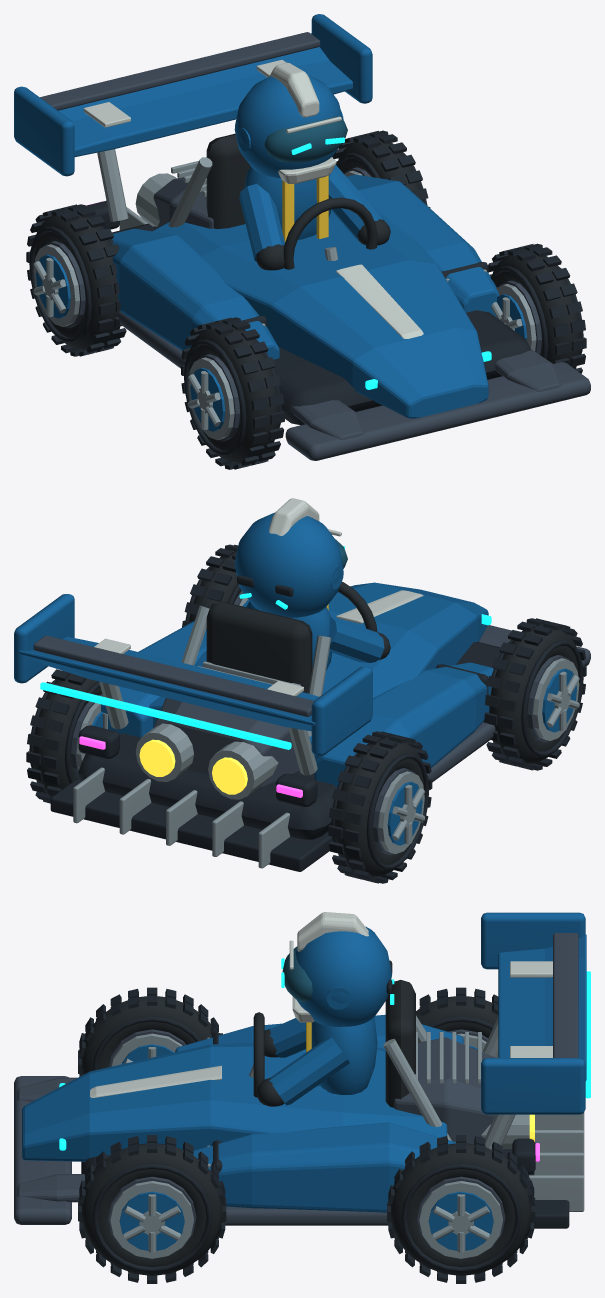
File: kart-azure.glb
3 renders of one model, top to bottom at view 1: azimuth 30°, elevation 25°; view 2: azimuth 150°, elevation 25°; view 3: azimuth 270°, elevation 25°, orthographic.
Visible parts, largest first — view 1: Kart_Surface, WheelFL_Surface, WheelRL_Surface, DriverHead_Surface, WheelFR_Surface, Driver_Surface, WheelRR_Surface; view 2: Kart_Surface, WheelRL_Surface, WheelFL_Surface, DriverHead_Surface, WheelRR_Surface, Driver_Surface, WheelFR_Surface; view 3: Kart_Surface, WheelFR_Surface, WheelRR_Surface, DriverHead_Surface, Driver_Surface, WheelFL_Surface, WheelRL_Surface.
Boxes of the visible parts, x1=… form: Kart_Surface: x1=14, y1=14, x2=590, y2=460; WheelFL_Surface: x1=181, y1=317, x2=284, y2=469; WheelRL_Surface: x1=26, y1=204, x2=126, y2=356; DriverHead_Surface: x1=234, y1=62, x2=347, y2=183; WheelFR_Surface: x1=488, y1=243, x2=586, y2=373; Driver_Surface: x1=239, y1=165, x2=390, y2=270; WheelRR_Surface: x1=332, y1=130, x2=430, y2=207; Kart_Surface: x1=14, y1=582, x2=590, y2=871; WheelRL_Surface: x1=328, y1=731, x2=432, y2=883; WheelFL_Surface: x1=483, y1=618, x2=586, y2=770; DriverHead_Surface: x1=234, y1=498, x2=347, y2=617; WheelRR_Surface: x1=26, y1=669, x2=107, y2=803; Driver_Surface: x1=242, y1=600, x2=390, y2=670; WheelFR_Surface: x1=182, y1=544, x2=248, y2=627; Kart_Surface: x1=14, y1=912, x2=590, y2=1228; WheelFR_Surface: x1=78, y1=1135, x2=226, y2=1283; WheelRR_Surface: x1=387, y1=1135, x2=535, y2=1283; DriverHead_Surface: x1=281, y1=912, x2=394, y2=1026; Driver_Surface: x1=257, y1=1017, x2=377, y2=1106; WheelFL_Surface: x1=78, y1=987, x2=222, y2=1076; WheelRL_Surface: x1=416, y1=987, x2=498, y2=1052.
Bounding box in the file's own units: 1.81 × 1.37 × 2.48.
